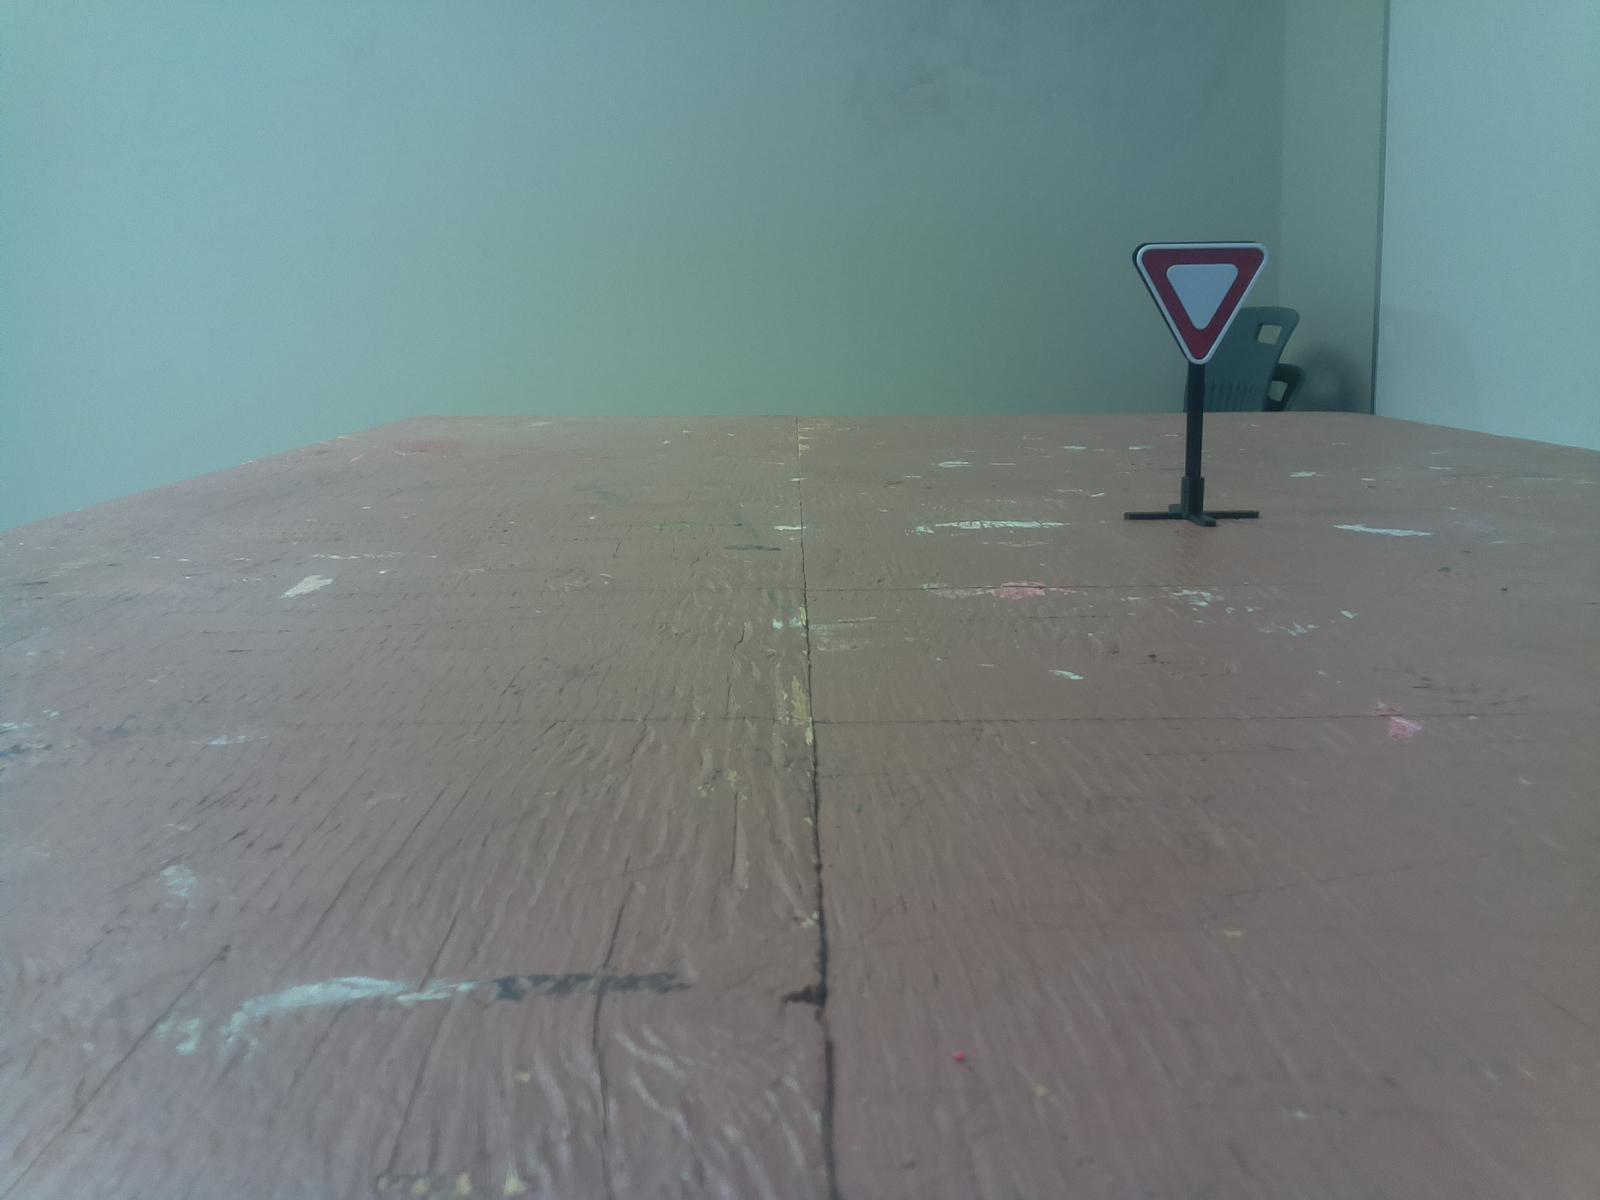sign_yield: (1115, 234, 1289, 369)
